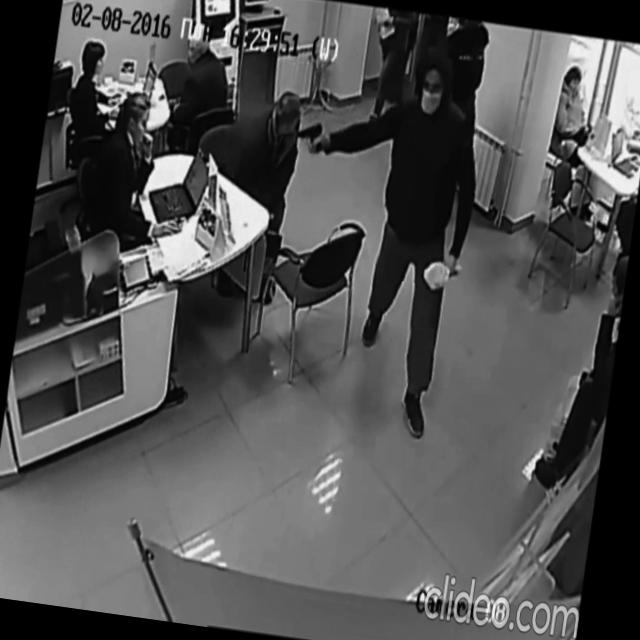gun: (296, 118, 326, 154)
person: (196, 80, 306, 284), (81, 84, 200, 253), (540, 62, 614, 222), (65, 36, 132, 158)
person with a gun: (259, 25, 498, 446)
